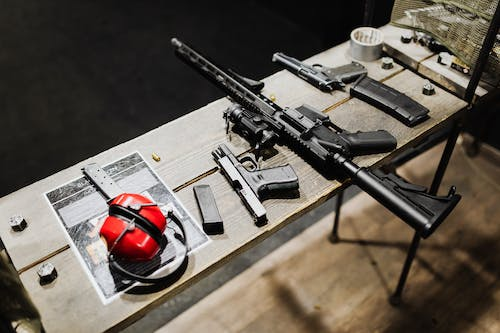gun: (169, 35, 464, 241), (210, 141, 300, 227), (269, 47, 369, 96)
